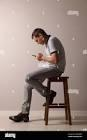bad-pose: (0, 0, 87, 140)
